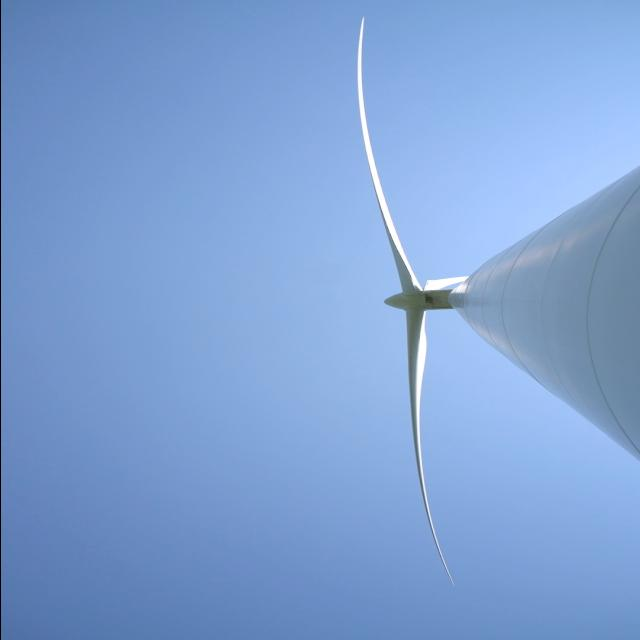blade 1: (395, 331, 463, 597)
blade 2: (422, 268, 458, 292)
blade 3: (340, 14, 412, 264)
